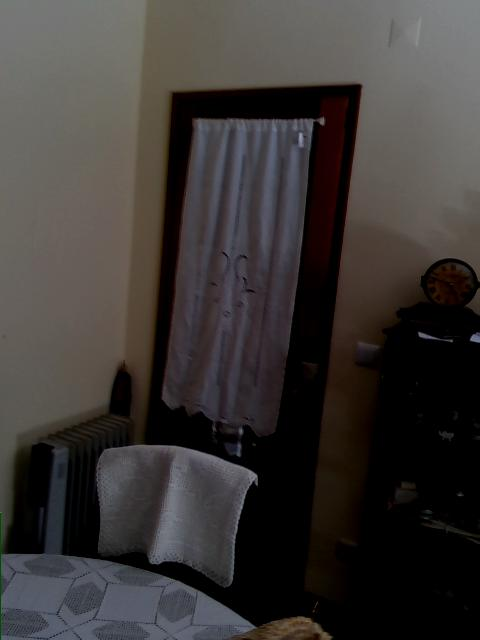closed_door: (135, 83, 361, 638)
